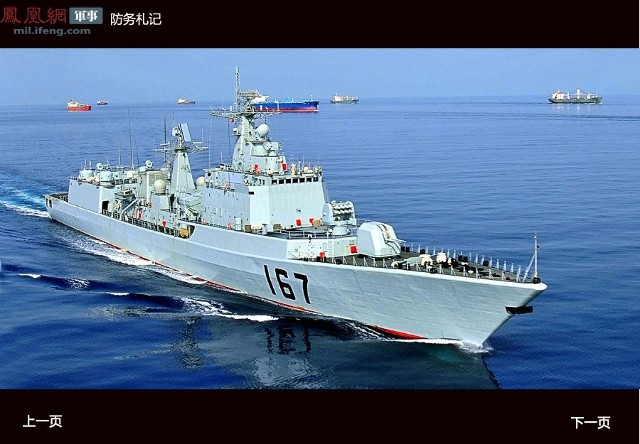Cargoship: (229, 85, 322, 115), (546, 84, 602, 107), (63, 94, 93, 114), (329, 89, 362, 106)
warship: (43, 71, 551, 358)
